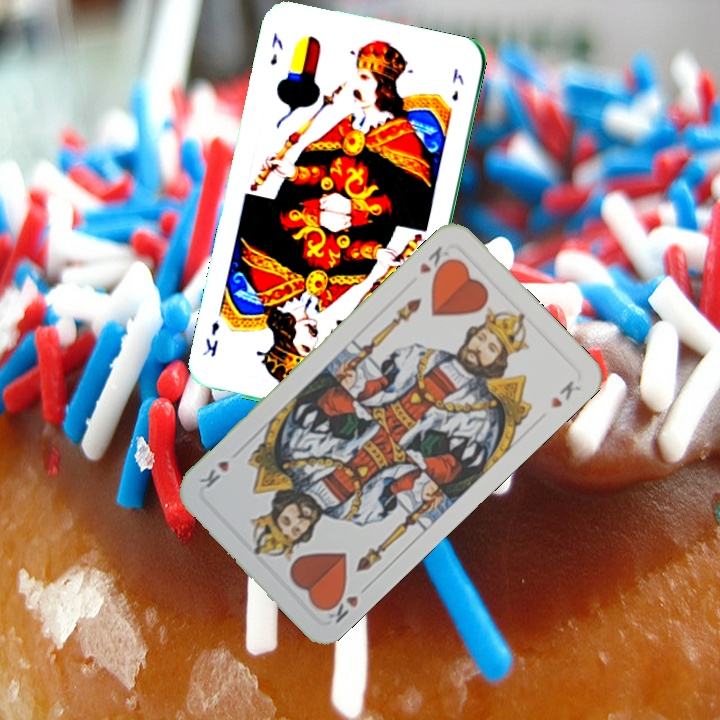EK: (266, 29, 286, 68)
HK: (318, 579, 373, 627), (415, 242, 455, 281)
